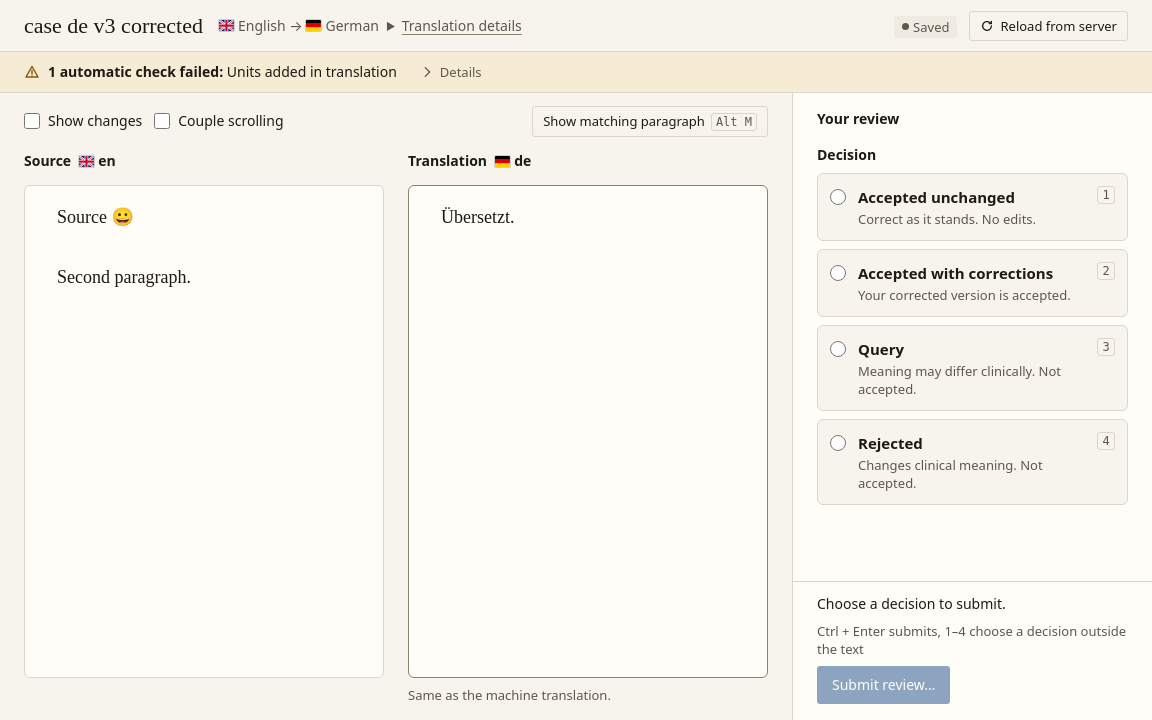
Test: submits a deliberately selected query through the real form and saver
Expected: the text box named "Translation (de)" is shown, left=409, top=186, right=767, bottom=677
Click the radio button labelled "Query" at (838,349), box left=830, top=341, right=846, bottom=357
(page scrolled)
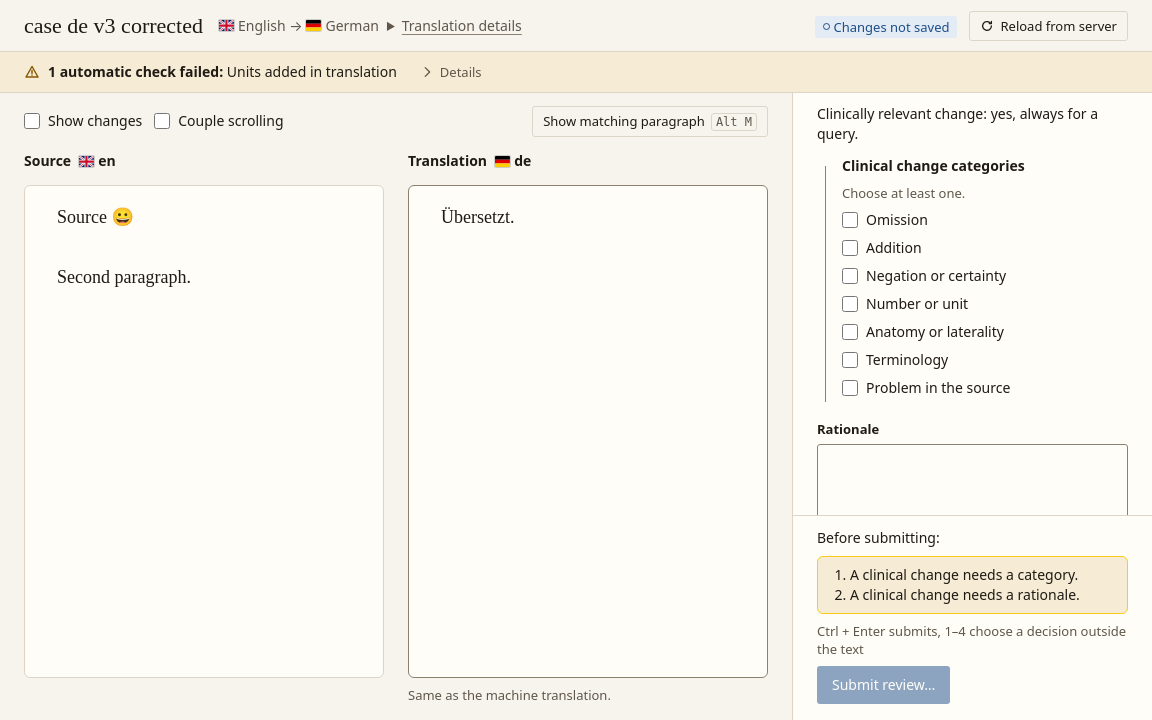
Click the checkbox labelled "Number or unit" at (850,304), box left=842, top=296, right=858, bottom=312
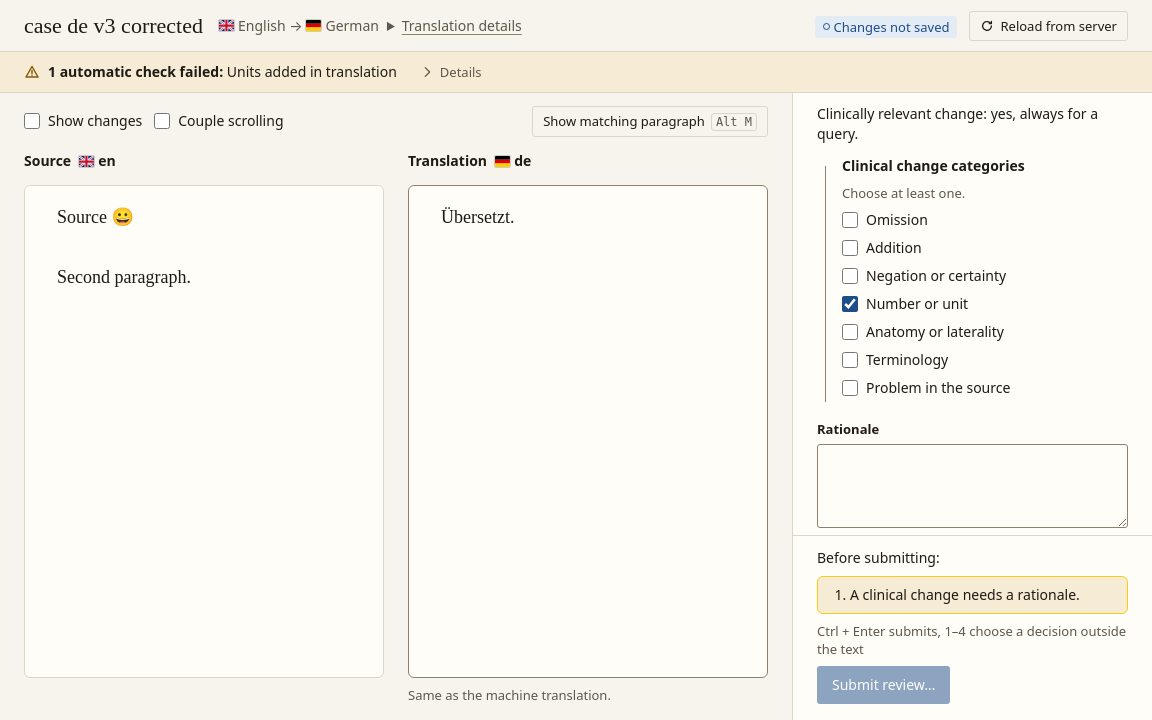
The fixture failed an automatic check: accepting it unchanged needs a rationale (R-12).
Type "Check the dose" into the text box labelled "Rationale" at (972,486), box left=817, top=444, right=1128, bottom=528
Wait 800 ms
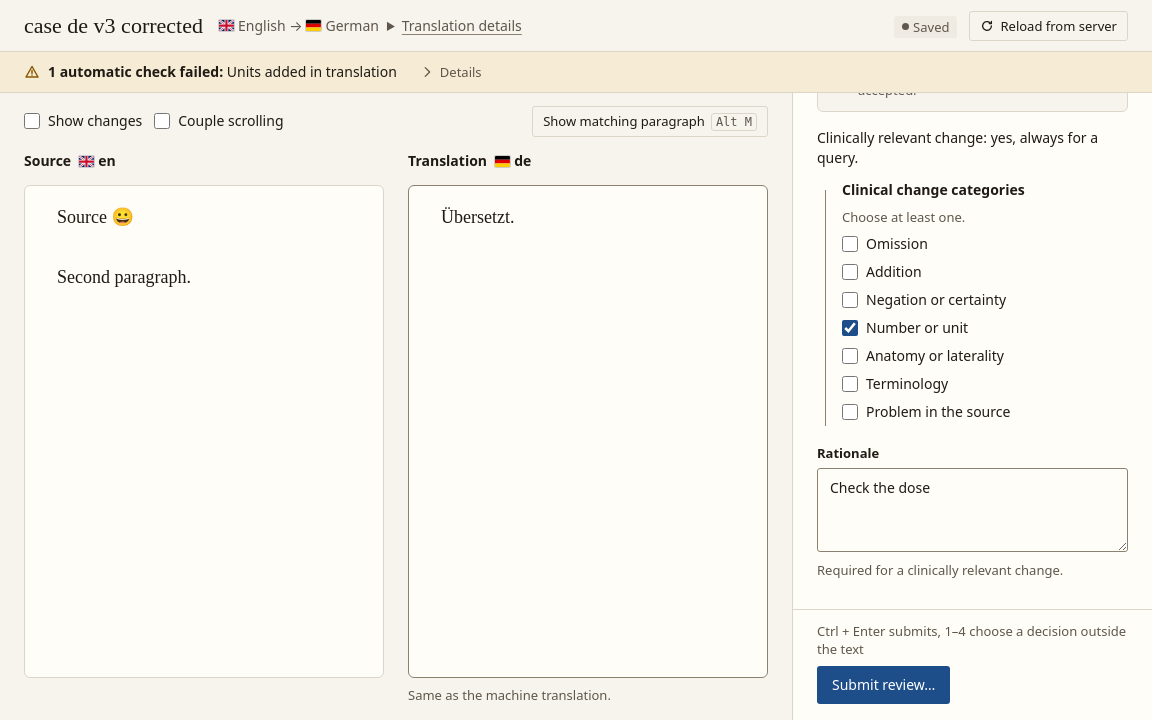
Expected: the button "Submit review…" does not have attribute aria-disabled
Click the button "Submit review…" at (884,685), box left=817, top=666, right=950, bottom=704
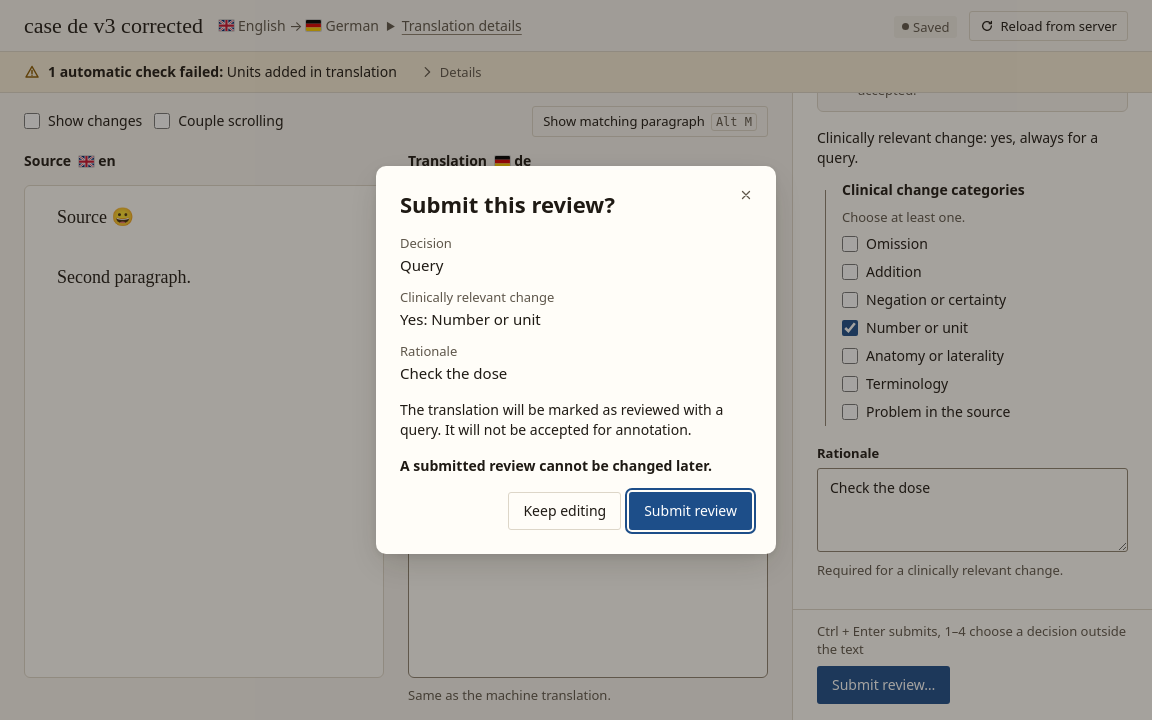
Click the button "Submit review" at (691,511), box left=629, top=492, right=752, bottom=530
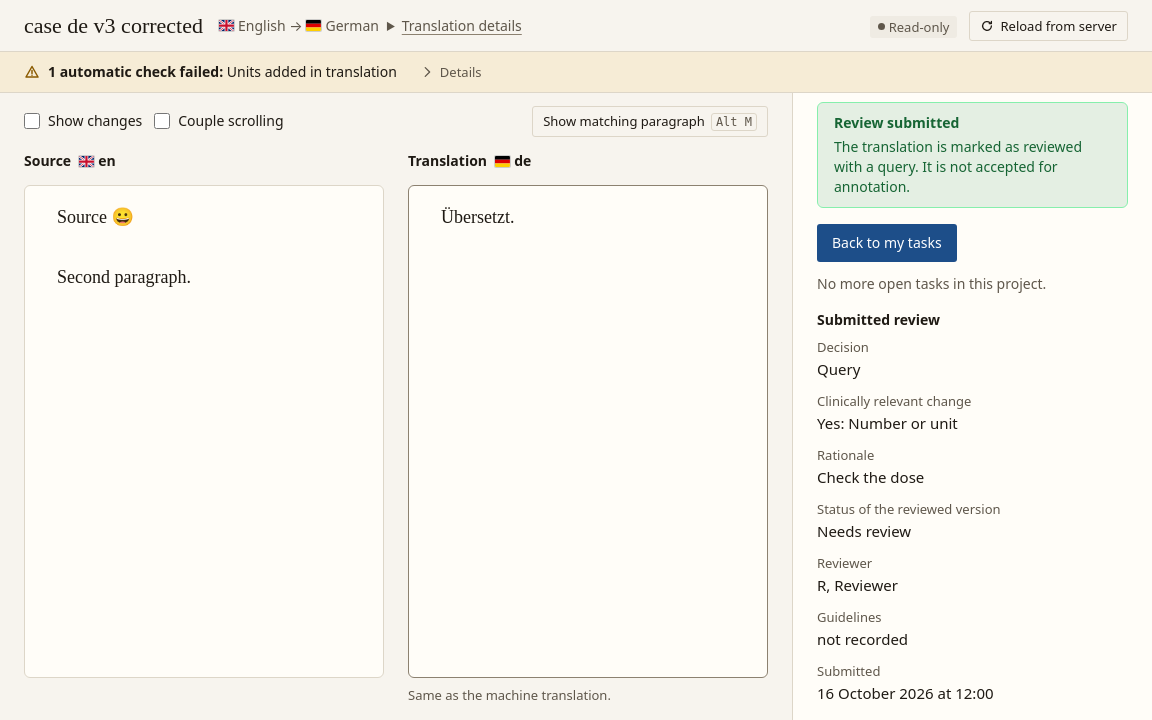
Expected: the text "Query" is shown, left=817, top=359, right=860, bottom=379
Expected: the text "Review submitted" is shown, left=834, top=113, right=959, bottom=132
Expected: the dialog is gone
